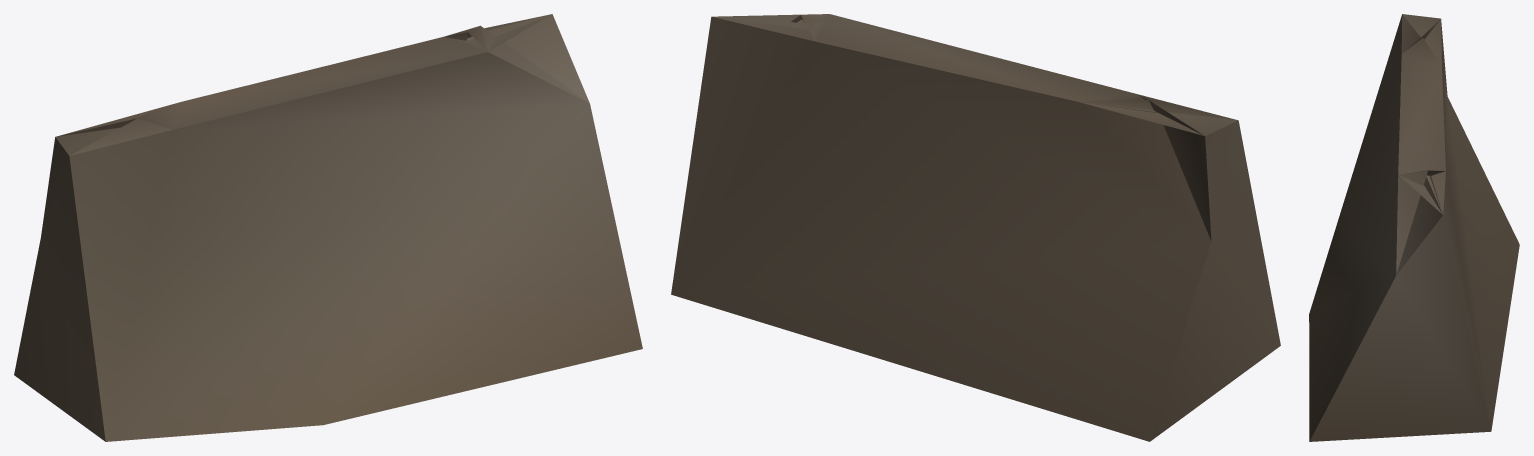
Rendered from concrete_road_barrier.glb.
3 views of the same model, side by side, from view 1: azimuth 30°, elevation 25°; view 2: azimuth 150°, elevation 25°; view 3: azimuth 270°, elevation 25° (orthographic). The views are drawn at different scales.
Visible parts, largest first — view 1: concrete_road_barrier; view 2: concrete_road_barrier; view 3: concrete_road_barrier.
Boxes of the visible parts, x1,y1,x2,y2 form: concrete_road_barrier: [14, 14, 642, 441]; concrete_road_barrier: [671, 14, 1280, 441]; concrete_road_barrier: [1309, 14, 1519, 441].
Bounding box in the file's own units: 1.53 × 0.8171 × 0.6618.
